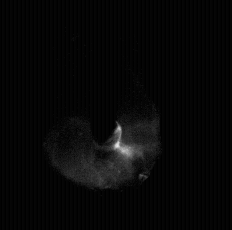arame: (91, 0, 117, 146)
poca: (46, 0, 155, 230)
